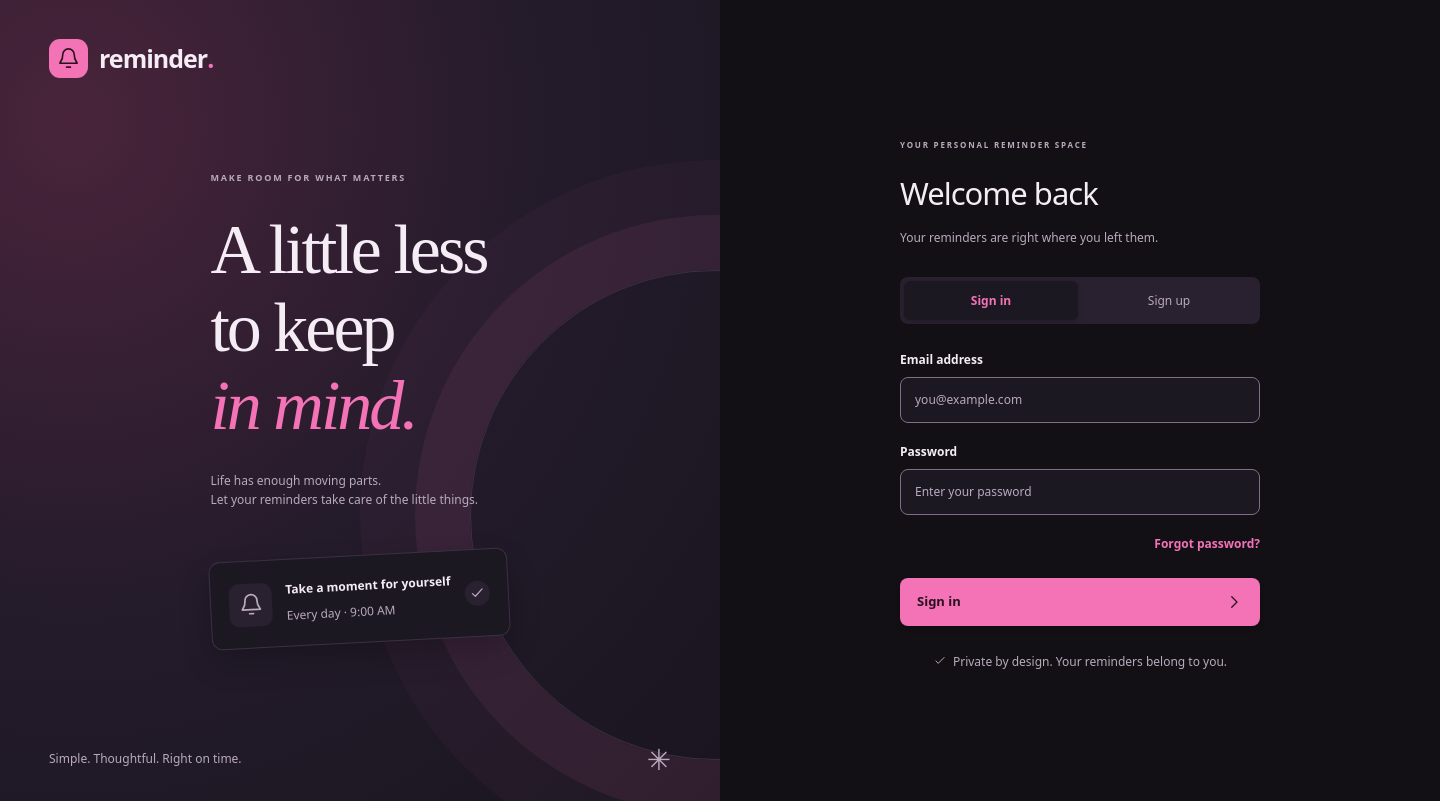
Test: authentication flows › validates matching registration passwords before contacting Supabase
Click the button "Sign up": x=1169, y=301 x1=1082 y1=281 x2=1256 y2=320
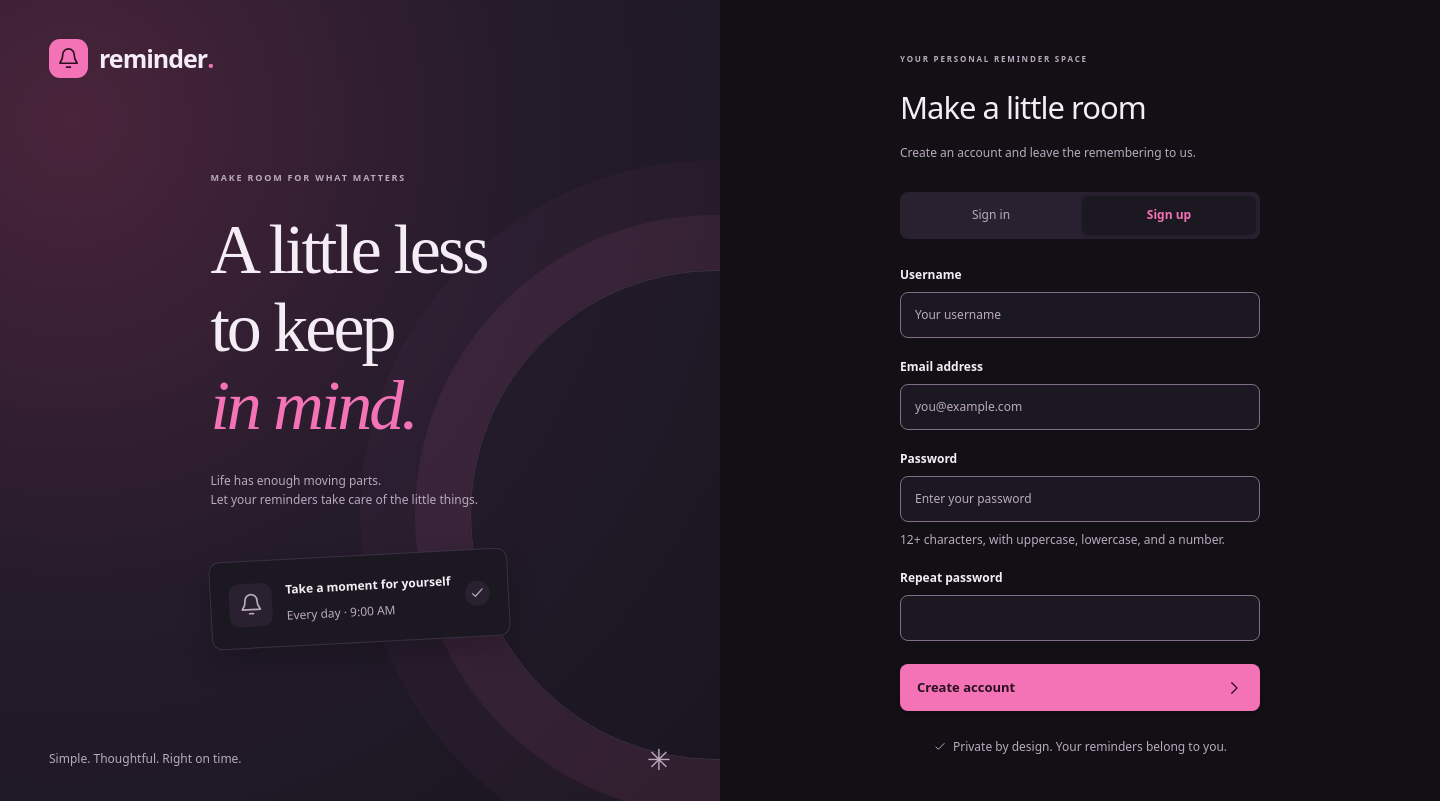
In the field labelled "Username": x=1080, y=315 x1=900 y1=292 x2=1260 y2=338, type "alice"
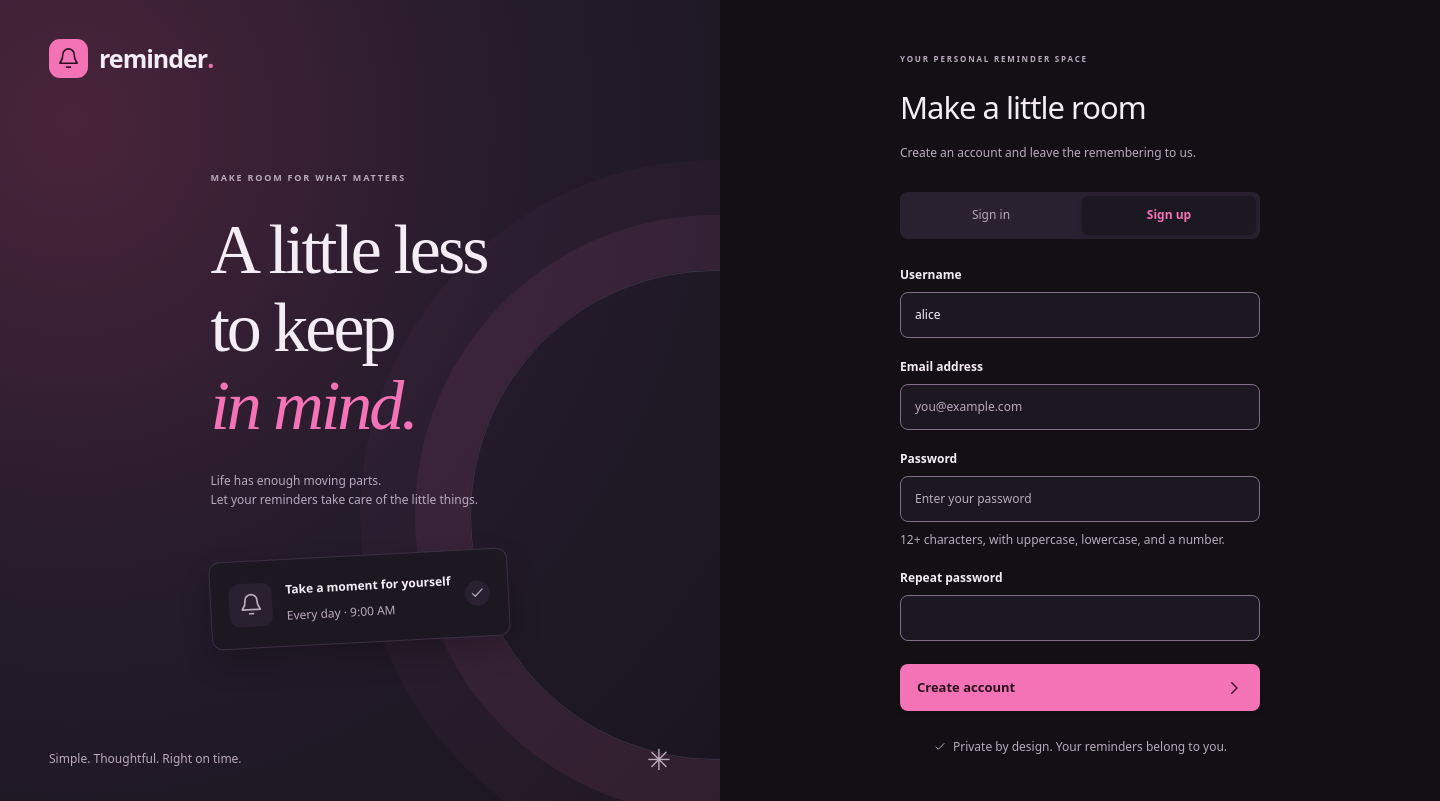
In the field labelled "Email address": x=1080, y=407 x1=900 y1=384 x2=1260 y2=430, type "alice@example.com"
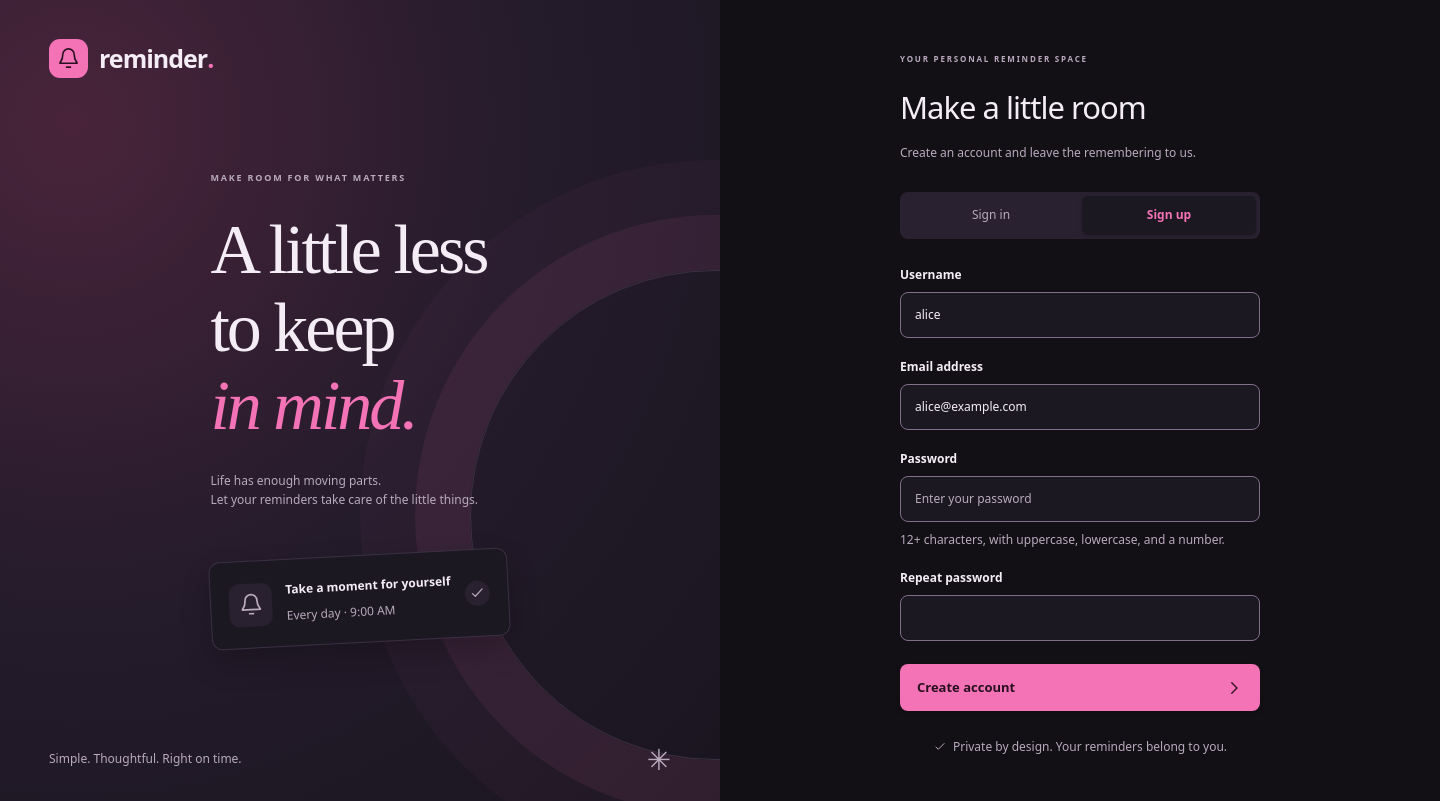
In the password field labelled "Password": x=1080, y=499 x1=900 y1=476 x2=1260 y2=522, type "GoodPassword123"
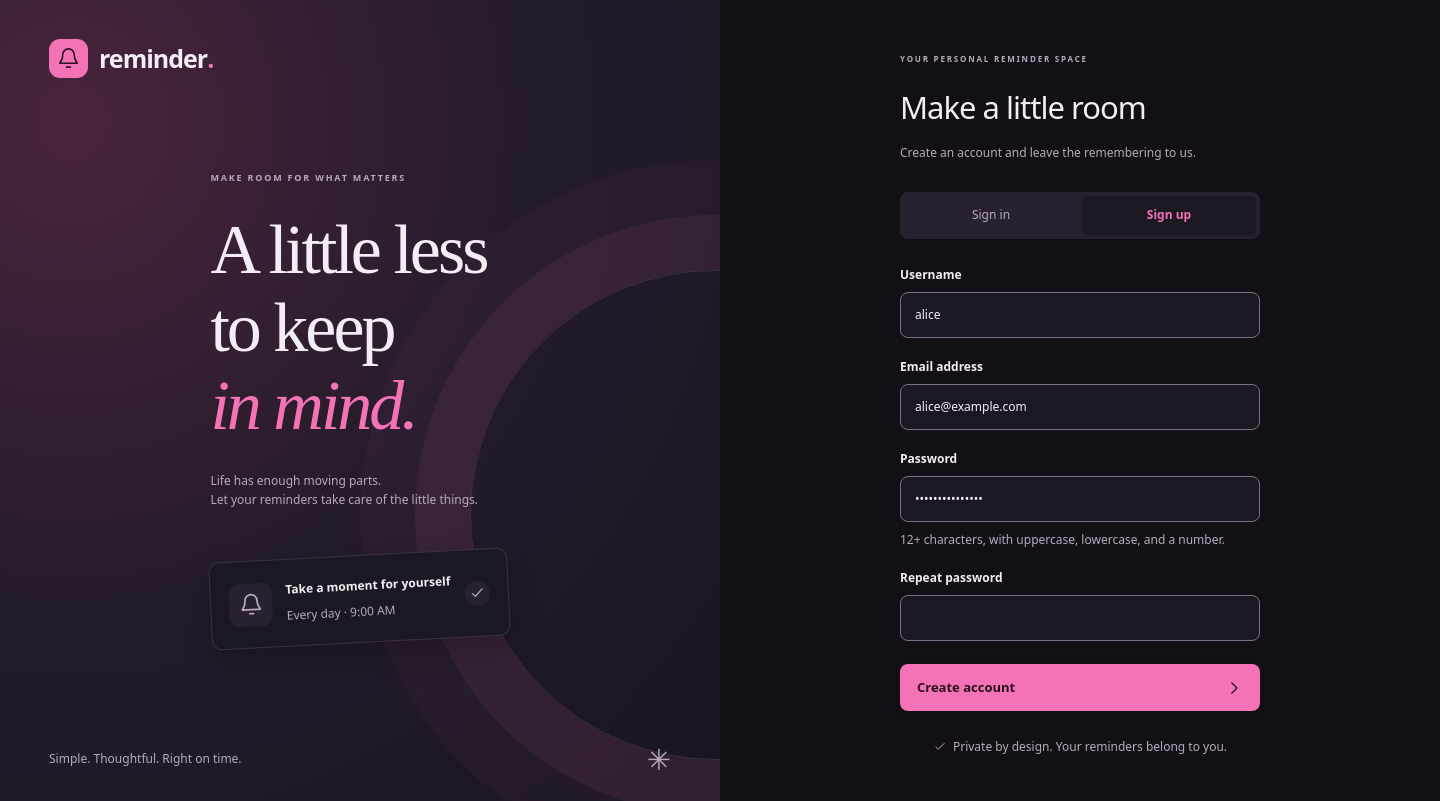
In the password field labelled "Repeat password": x=1080, y=618 x1=900 y1=595 x2=1260 y2=641, type "Different123"
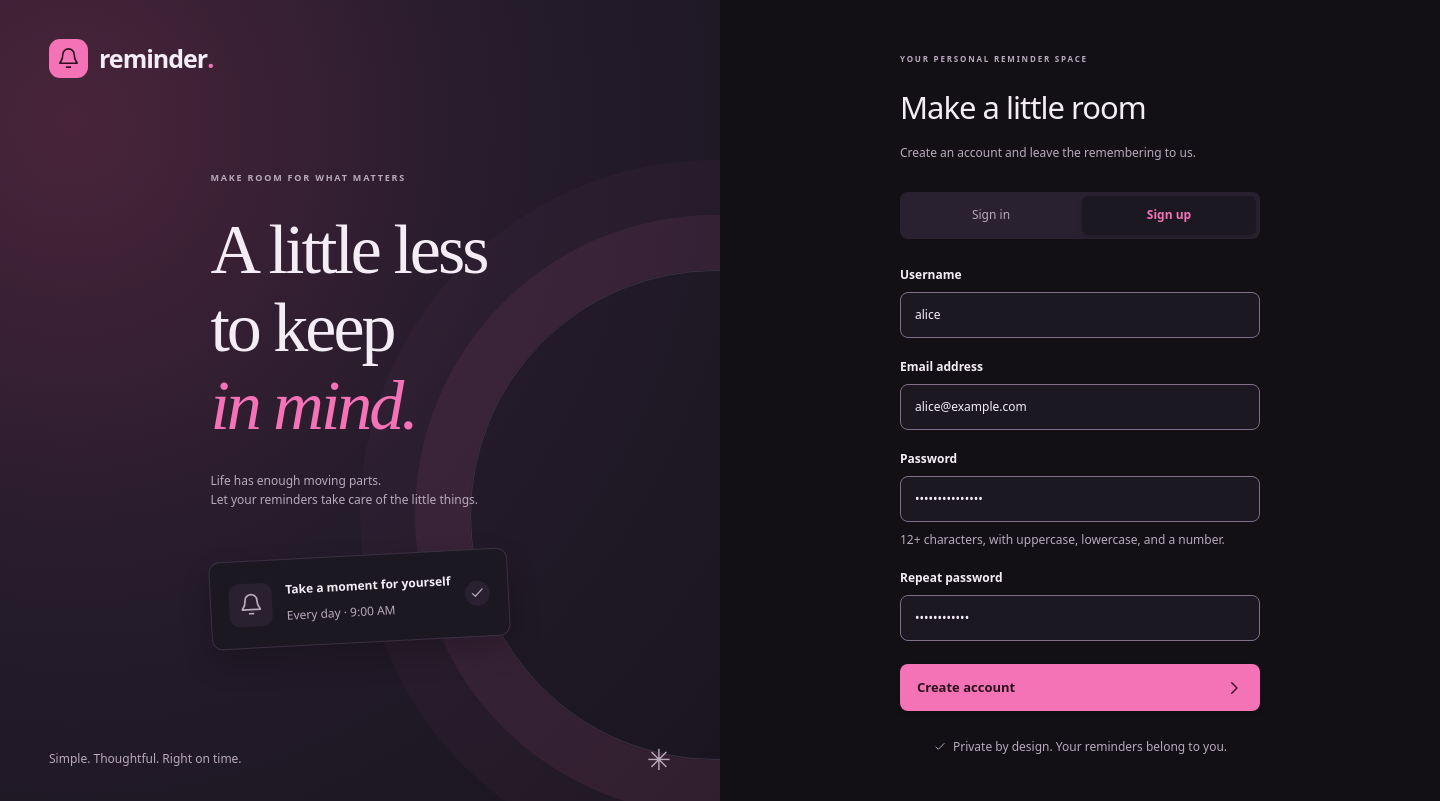
Click the button "Create account": x=966, y=687 x1=900 y1=664 x2=1260 y2=712
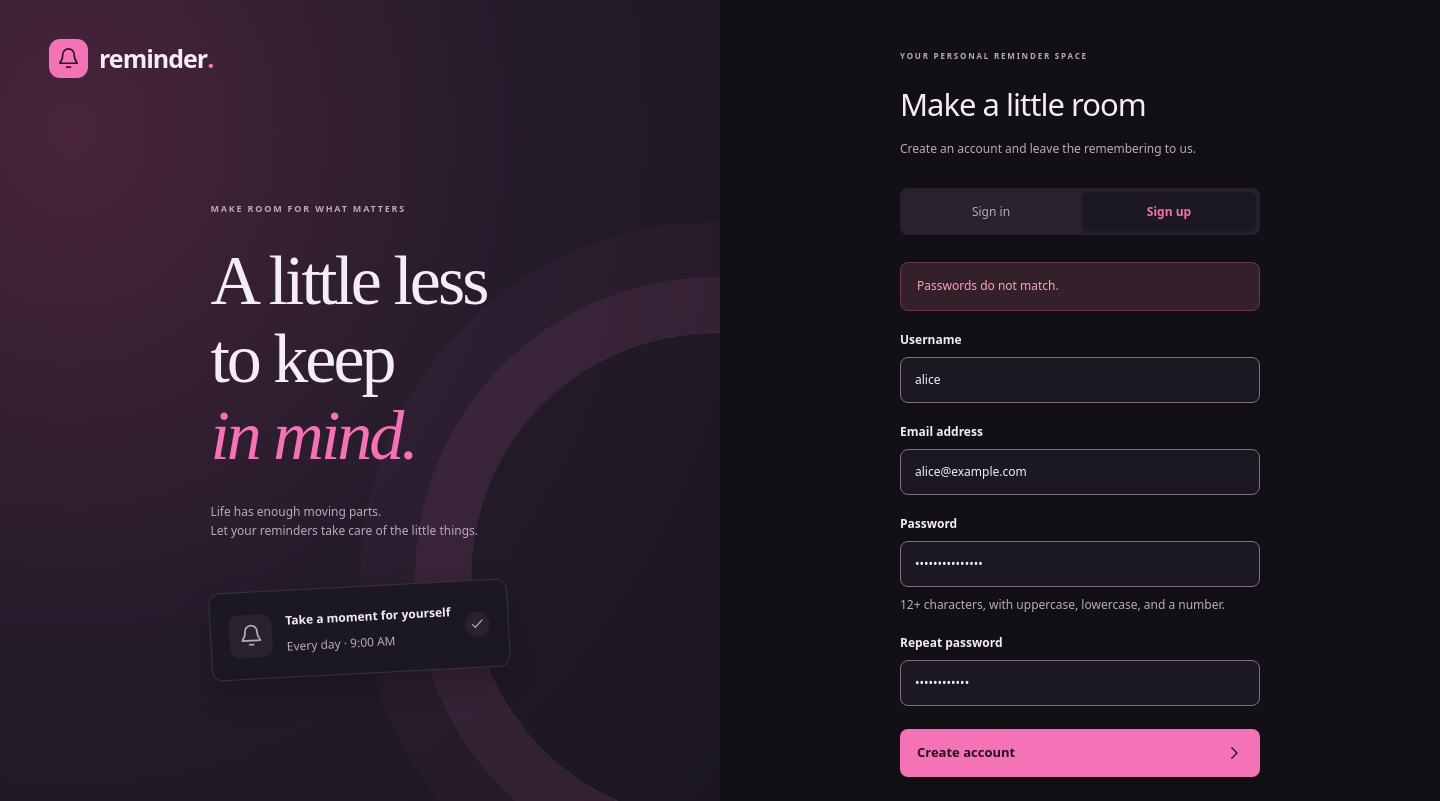
Expected: the message reads "Passwords do not match.", x1=917 y1=278 x2=1059 y2=294
